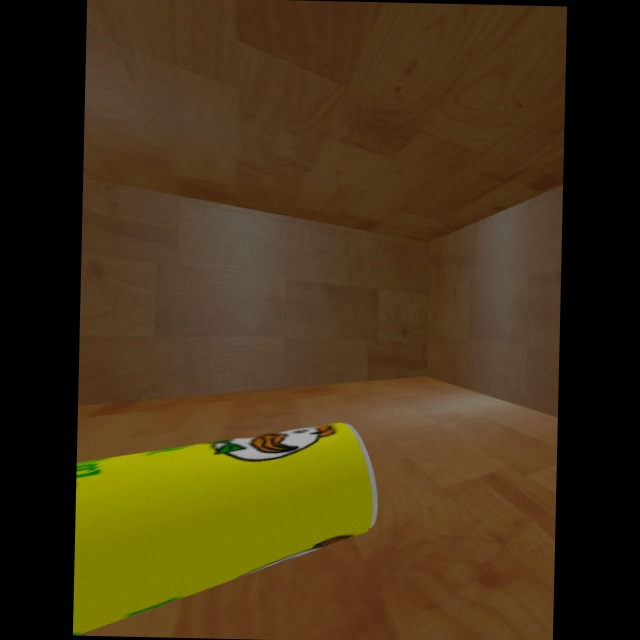chipsdose_gelb: (72, 423, 378, 638)
